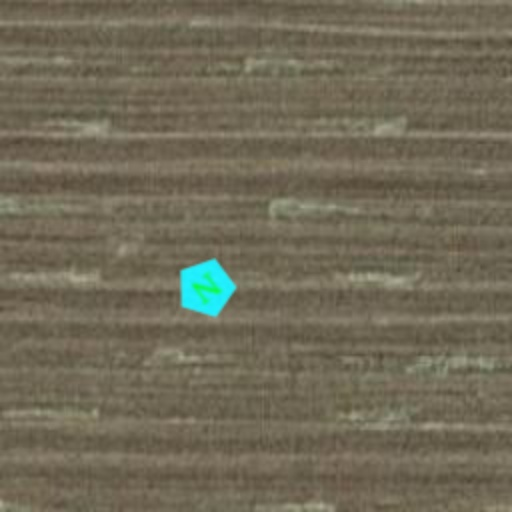pentagon: (162, 244, 250, 332)
